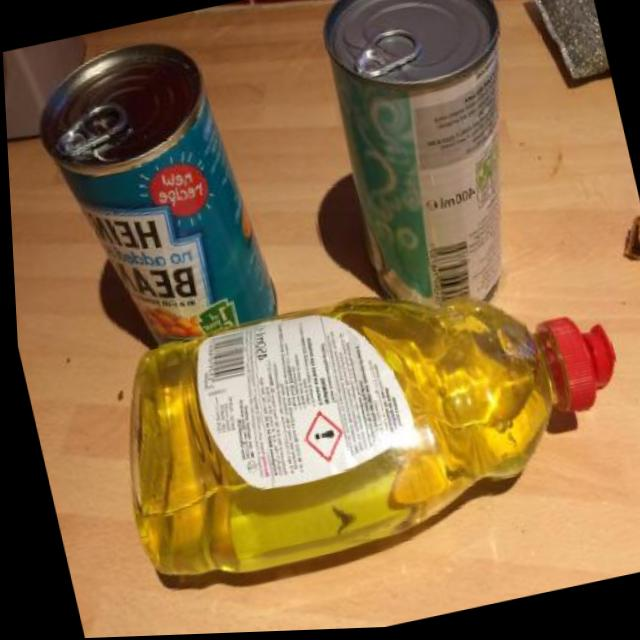metal: (21, 22, 288, 377), (304, 0, 564, 328)
plastic: (86, 242, 640, 602)
